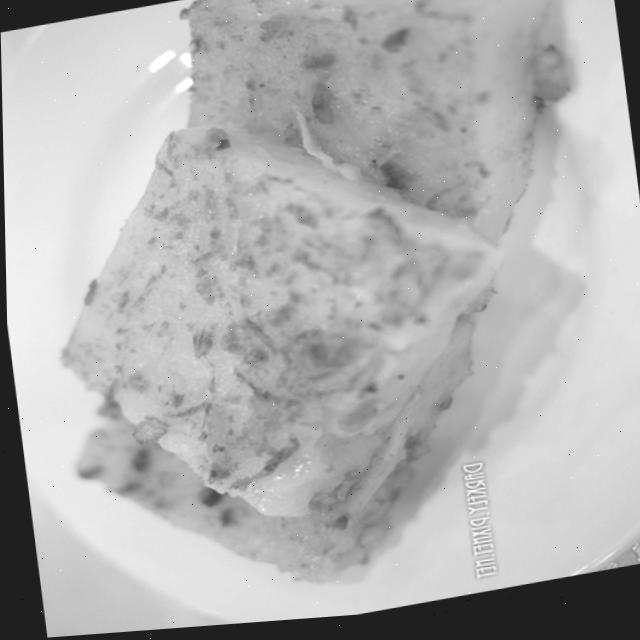蛋糕甜品: (0, 0, 635, 615)
